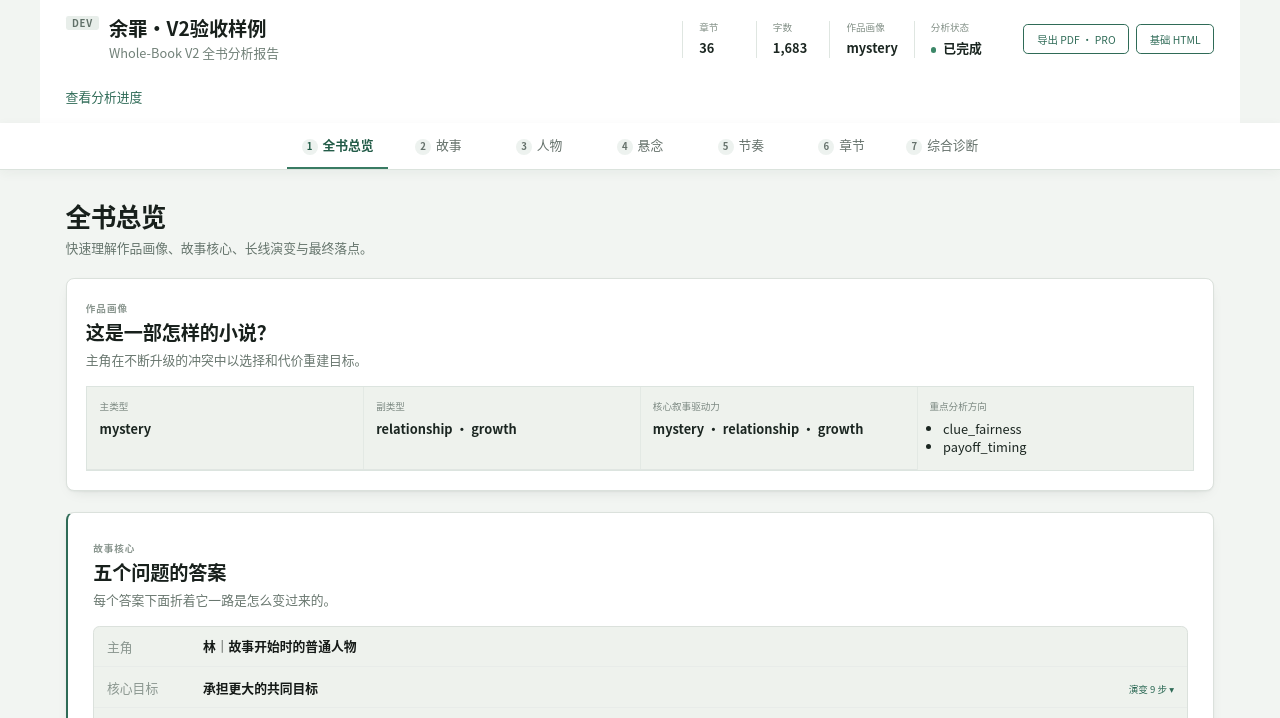
Test: Whole-Book V2 static mock › story module states its four sections on one page, timeline included
The width and height of the screenshot is (1280, 718).
Click the button "2 故事" at (438, 146), box x1=388 y1=123 x2=489 y2=169
(page scrolled)
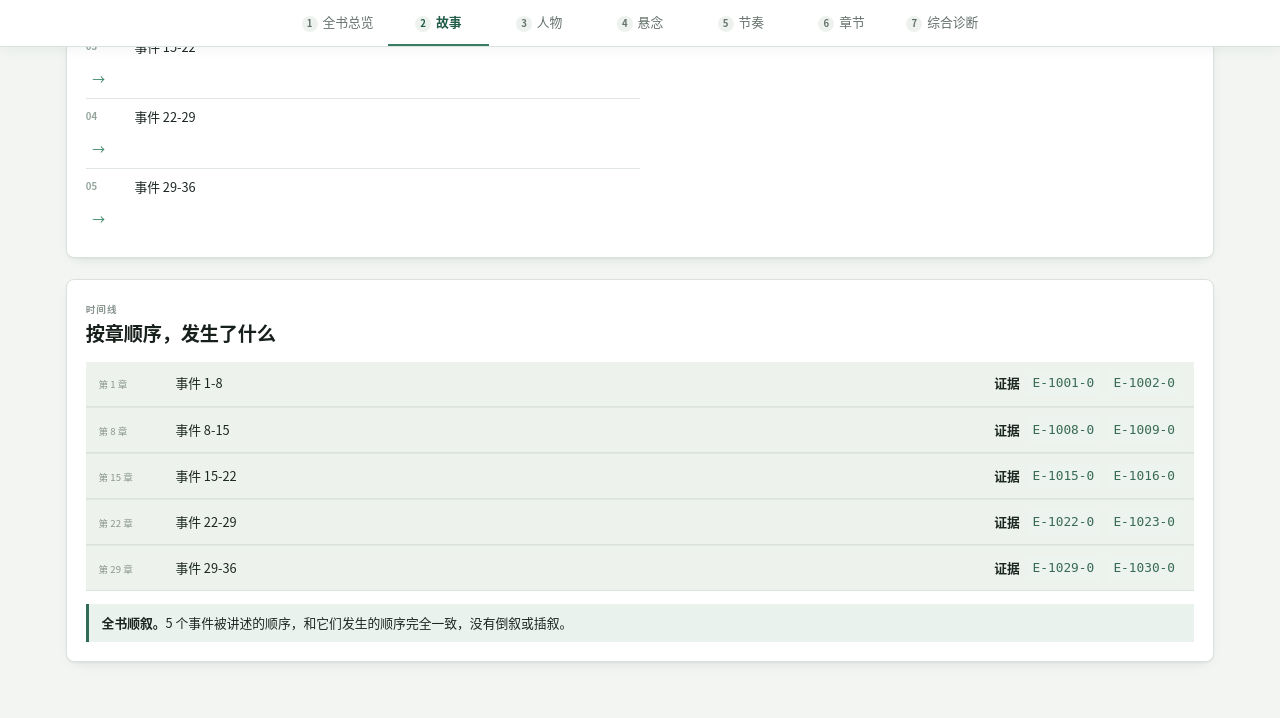
Check: the heading "按章顺序，发生了什么" is shown, box x1=86 y1=319 x2=276 y2=347
Check: the element showing "第 1 章 事件 1-8 证据 E-1001-0 E-1002-0" is shown, box x1=86 y1=362 x2=1194 y2=407
Check: the text "全书顺叙。" is shown, box x1=102 y1=613 x2=166 y2=632
